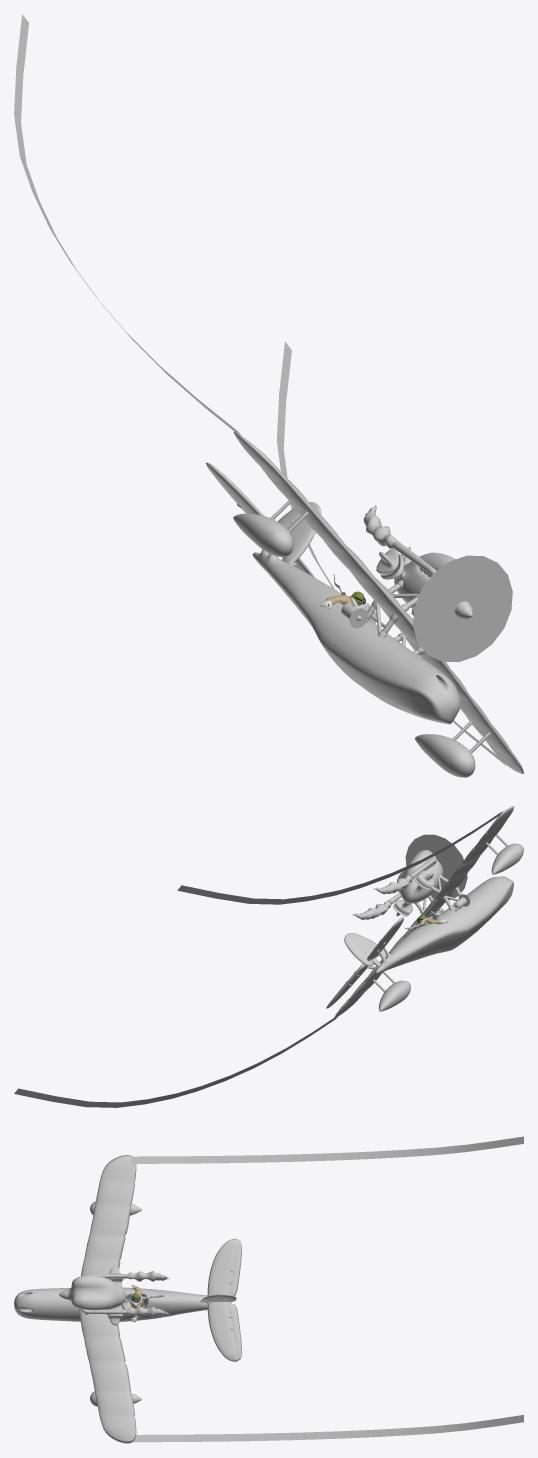
3 views of the same model, one above another, from view 1: azimuth 30°, elevation 25°; view 2: azimuth 150°, elevation 25°; view 3: azimuth 270°, elevation 25° (orthographic). The views are drawn at different scales.
Visible parts, largest first — view 1: Body_l_Plane_0, Rotatory_Plane_0, Wing01_l_Plane_0, Side_l_Plane_0, Engine_l_Plane_0, Shape001_Plane_0, Shape_Plane_0, Wing02_l_Plane_0, Midcilinders_l_Plane_0, Wing03_l_Plane_0; view 2: Body_l_Plane_0, Wing01_l_Plane_0, Shape001_Plane_0, Shape_Plane_0, Engine_l_Plane_0, Rotatory_Plane_0, Side_l_Plane_0, Wing02_l_Plane_0, Wing03_l_Plane_0, Midcilinders_l_Plane_0; view 3: Wing01_l_Plane_0, Body_l_Plane_0, Shape001_Plane_0, Shape_Plane_0, Wing03_l_Plane_0, Engine_l_Plane_0.
Part boxes in pixels (x1,y1,x2,y2): Body_l_Plane_0: (252, 549, 460, 724); Rotatory_Plane_0: (413, 555, 512, 662); Wing01_l_Plane_0: (233, 431, 523, 773); Side_l_Plane_0: (233, 513, 475, 777); Engine_l_Plane_0: (376, 549, 472, 619); Shape001_Plane_0: (14, 14, 241, 435); Shape_Plane_0: (276, 342, 506, 765); Wing02_l_Plane_0: (277, 502, 321, 565); Midcilinders_l_Plane_0: (366, 579, 424, 655); Wing03_l_Plane_0: (206, 462, 314, 577); Body_l_Plane_0: (367, 876, 513, 973); Wing01_l_Plane_0: (334, 806, 514, 1017); Shape001_Plane_0: (177, 811, 502, 904); Shape_Plane_0: (14, 1015, 338, 1107); Engine_l_Plane_0: (393, 850, 443, 916); Rotatory_Plane_0: (405, 834, 467, 900); Side_l_Plane_0: (378, 843, 523, 1011); Wing02_l_Plane_0: (344, 933, 386, 966); Wing03_l_Plane_0: (326, 917, 403, 1008); Midcilinders_l_Plane_0: (414, 874, 461, 914); Wing01_l_Plane_0: (79, 1155, 136, 1443); Body_l_Plane_0: (14, 1287, 231, 1321); Shape001_Plane_0: (131, 1136, 523, 1163); Shape_Plane_0: (133, 1415, 523, 1442); Wing03_l_Plane_0: (207, 1238, 241, 1361); Engine_l_Plane_0: (59, 1266, 126, 1325).
Bounding box in the file's own units: 294 × 340 × 571.
